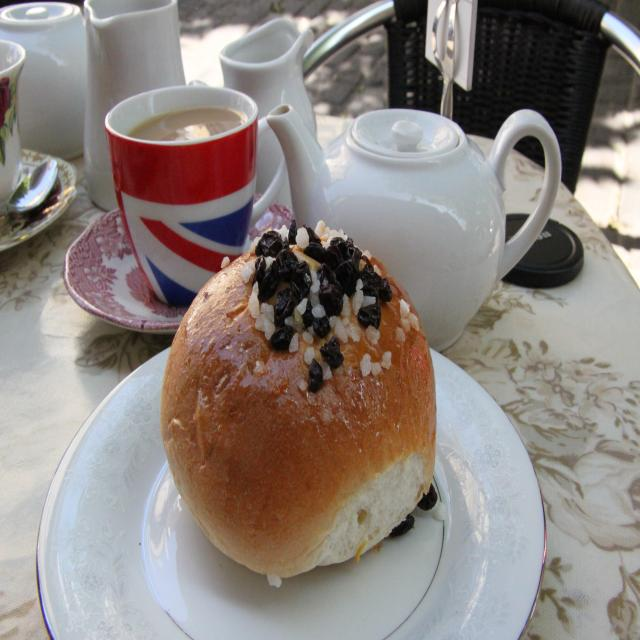Bun: (158, 220, 443, 580)
